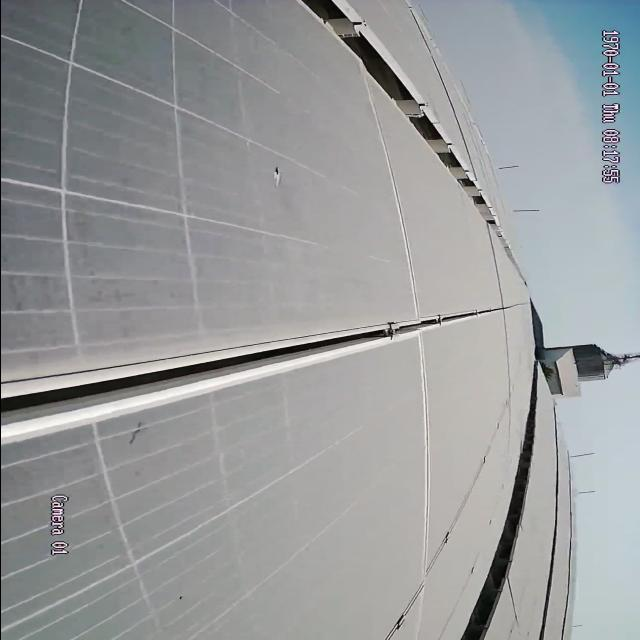interior panel: (6, 303, 520, 436)
outher panel: (293, 0, 502, 238), (458, 394, 539, 640)
